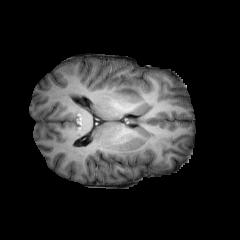glioma: (113, 74, 154, 161)
